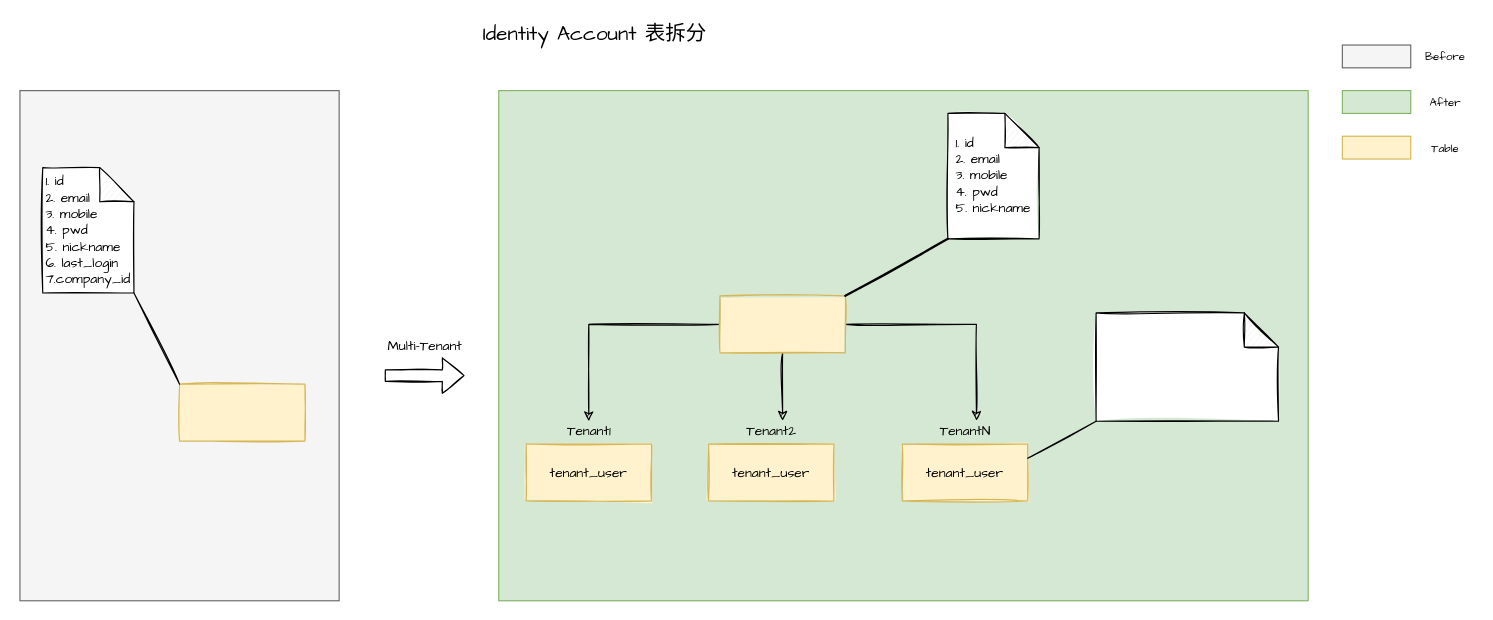
Image size: 1493x620. Some labels were removed from this diagram. The shapes that lost their labels are listed below. From the top down, each one's centre as x and y in pixels, then its label:
pixel 782 324: patsnap_account
pixel 1187 366: 1. patsnap_account_id 2. id 3. tenant_id 4. last_login
pixel 241 412: identity_account
